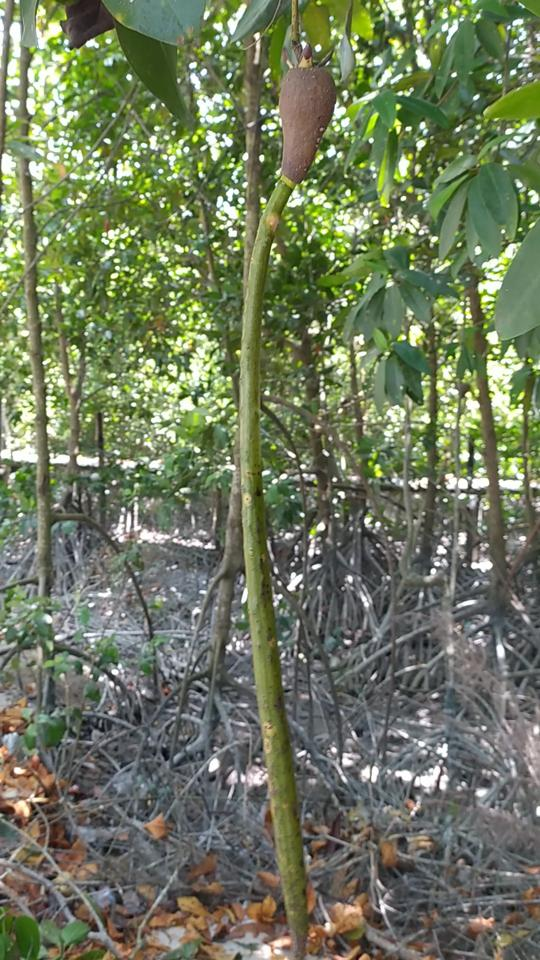setengah matang: (235, 45, 343, 959)
